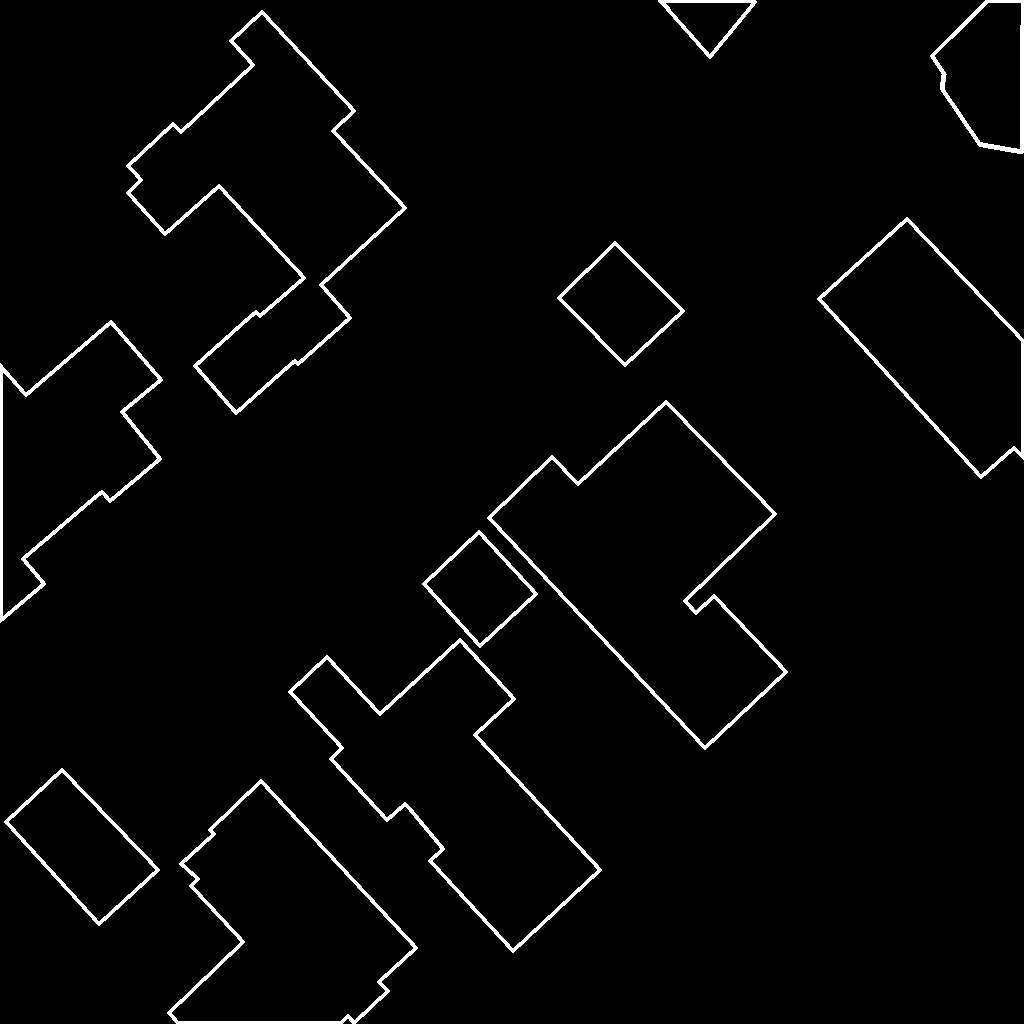building: (128, 12, 406, 414), (489, 402, 787, 749), (290, 640, 601, 952), (169, 781, 417, 1024), (819, 219, 1024, 478), (0, 322, 162, 622), (6, 770, 159, 925), (559, 243, 684, 366), (932, 0, 1024, 153), (424, 532, 537, 647), (659, 0, 756, 58)
